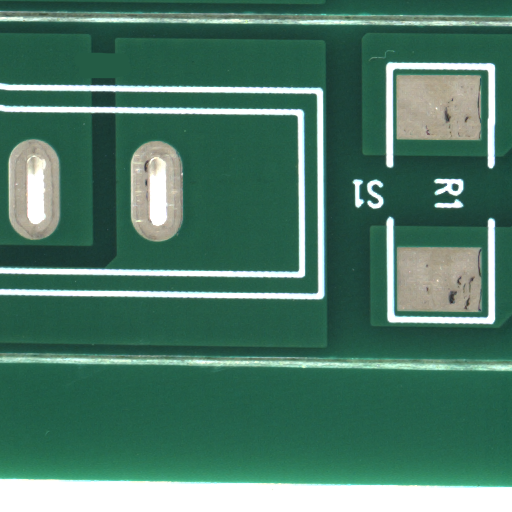Short: (102, 64, 153, 103)
